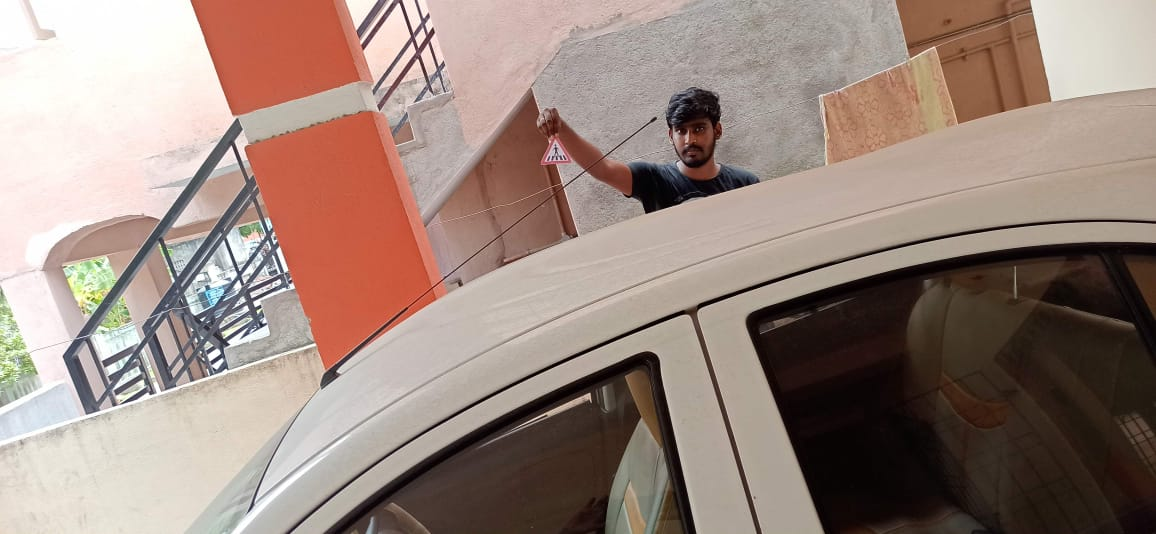PEDESTRIAN CROSSING: (536, 132, 571, 167)
